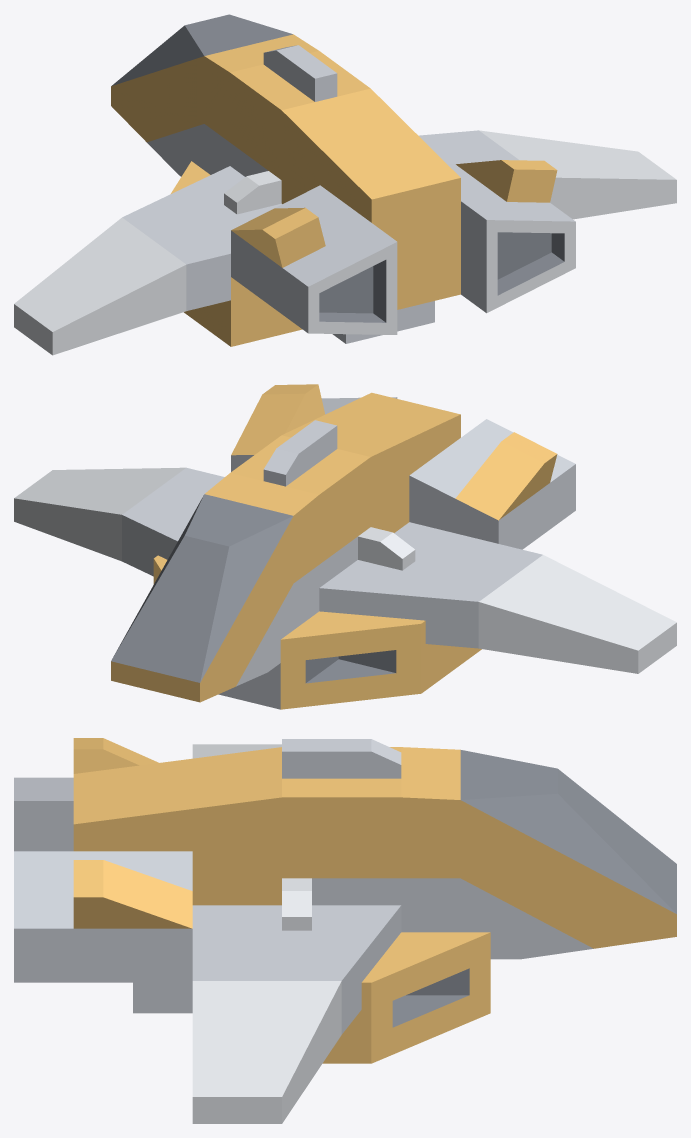
Rendered from craft_speederD.gltf.
The picture shows the model from 3 angles, top to bottom: view 1: azimuth 30°, elevation 25°; view 2: azimuth 150°, elevation 25°; view 3: azimuth 270°, elevation 25°; orthographic projection. The views are drawn at different scales.
Parts seen in each view (by area): view 1: craft_speederD; view 2: craft_speederD; view 3: craft_speederD.
Boxes of the visible parts, x1,y1,x2,y2 form: craft_speederD: (14, 14, 676, 355); craft_speederD: (14, 384, 676, 709); craft_speederD: (14, 738, 676, 1123).
Bounding box in the file's own units: 2.8 × 0.9 × 2.23.
